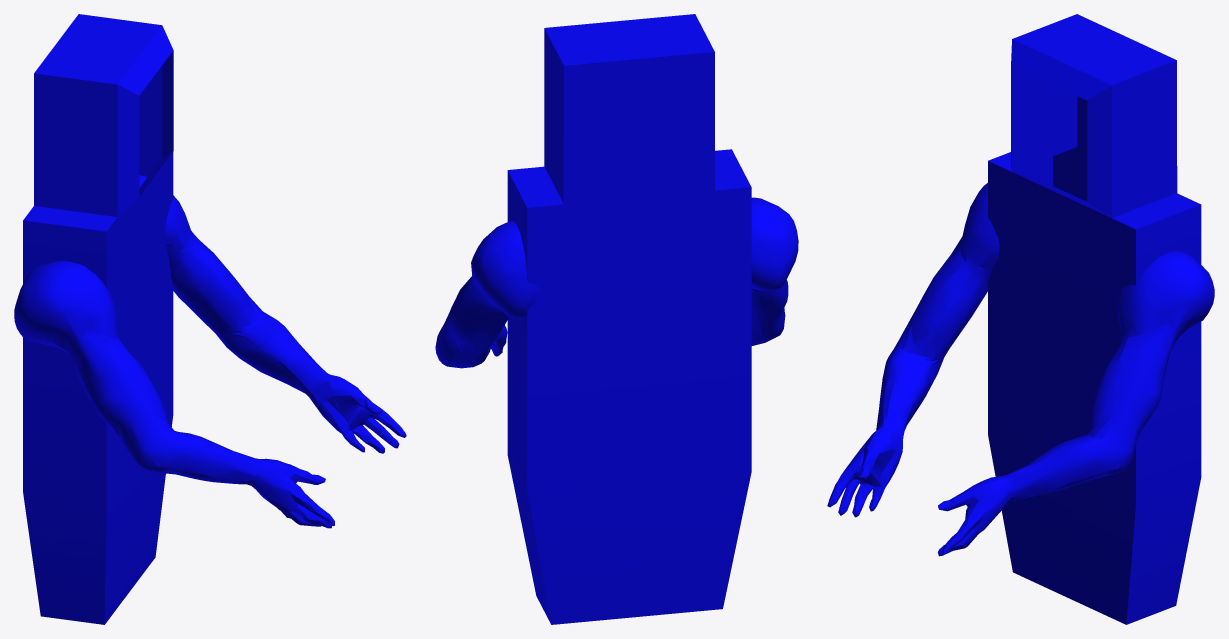
3 renders of one model, left to right at view 1: azimuth 30°, elevation 25°; view 2: azimuth 150°, elevation 25°; view 3: azimuth 270°, elevation 25°, orthographic. The views are drawn at different scales.
Visible parts, largest first — view 1: avatar:Mesh; view 2: avatar:Mesh; view 3: avatar:Mesh.
Part boxes in pixels (x1,y1,x2,y2): avatar:Mesh: [14, 14, 406, 624]; avatar:Mesh: [435, 14, 798, 624]; avatar:Mesh: [827, 14, 1214, 624].
Size of the model in its own units: 4.01 by 5.87 by 3.82.
